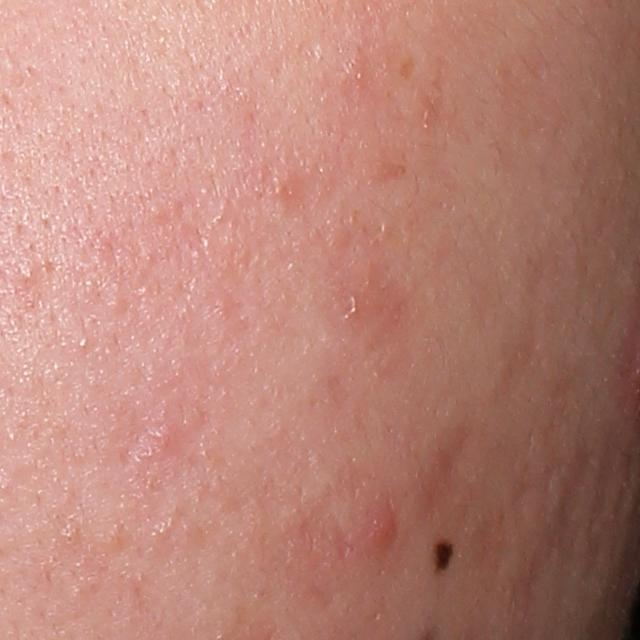comedo: (20, 265, 39, 285)
papule: (368, 503, 397, 554)
